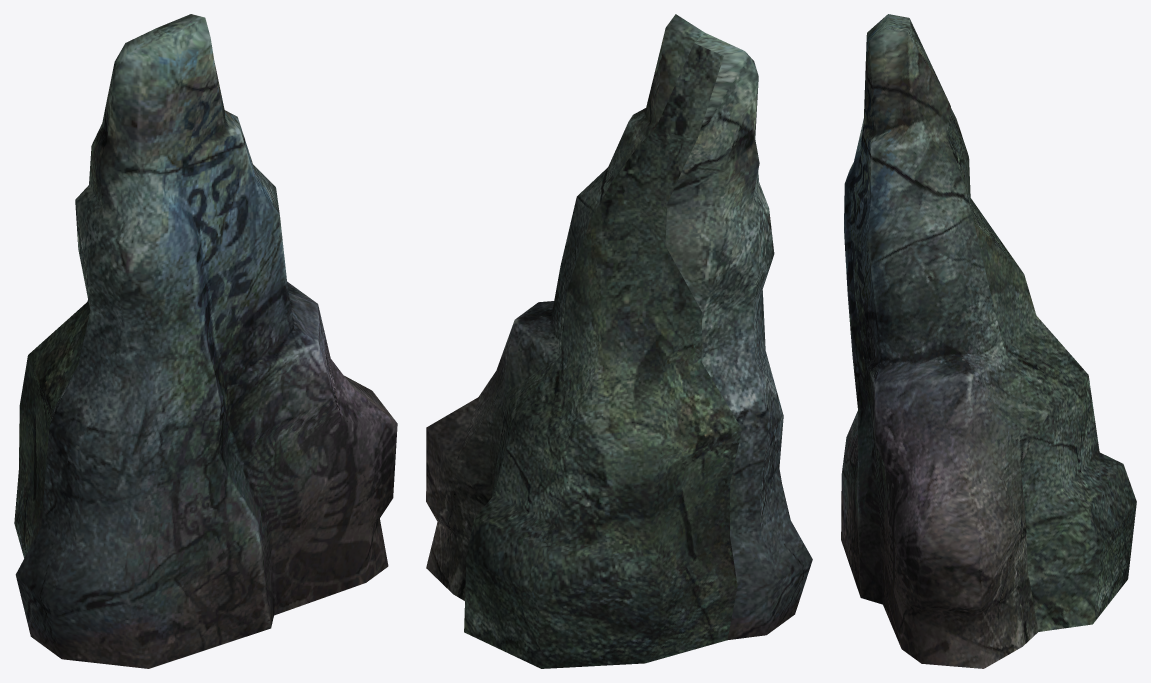
The model's file is invocation_stone01.fbx.
3 views of the same model, side by side, from view 1: azimuth 30°, elevation 25°; view 2: azimuth 150°, elevation 25°; view 3: azimuth 270°, elevation 25° (orthographic). The views are drawn at different scales.
Visible parts, largest first — view 1: invocation_stone01; view 2: invocation_stone01; view 3: invocation_stone01.
Boxes of the visible parts, x1,y1,x2,y2 form: invocation_stone01: (14, 14, 397, 668); invocation_stone01: (426, 14, 812, 668); invocation_stone01: (841, 14, 1136, 668).
Size of the model in its own units: 17.38 by 27.43 by 13.47.
